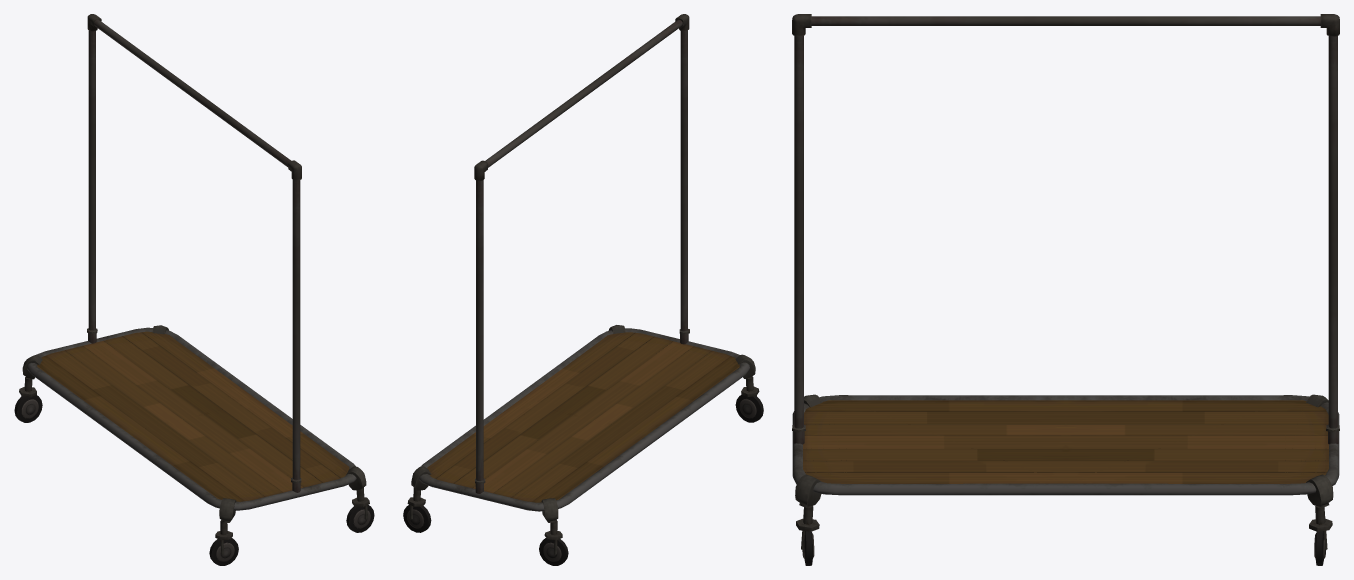
Rendered from ClothesTrolley.fbx.
The picture shows the model from 3 angles, left to right: view 1: azimuth 30°, elevation 25°; view 2: azimuth 150°, elevation 25°; view 3: azimuth 270°, elevation 25°; orthographic projection. The views are drawn at different scales.
Visible parts, largest first — view 1: ClothesTrolley_Base, Pole1, Pole3, Pole2, TrolleyWheel_3, TrolleyWheel_4, TrolleyWheel_1; view 2: ClothesTrolley_Base, Pole1, Pole3, Pole2, TrolleyWheel_4, TrolleyWheel_3, TrolleyWheel_2; view 3: ClothesTrolley_Base, Pole2, Pole1, Pole3.
Boxes of the visible parts, x1,y1,x2,y2 form: ClothesTrolley_Base: [27, 327, 356, 510]; Pole1: [292, 180, 300, 492]; Pole3: [88, 30, 96, 343]; Pole2: [94, 19, 290, 167]; TrolleyWheel_3: [14, 395, 42, 422]; TrolleyWheel_4: [209, 538, 238, 565]; TrolleyWheel_1: [346, 505, 374, 532]; ClothesTrolley_Base: [419, 328, 749, 511]; Pole1: [680, 30, 688, 344]; Pole3: [475, 180, 483, 493]; Pole2: [485, 19, 682, 167]; TrolleyWheel_4: [735, 394, 763, 422]; TrolleyWheel_3: [539, 538, 568, 565]; TrolleyWheel_2: [403, 504, 431, 532]; ClothesTrolley_Base: [792, 395, 1339, 495]; Pole2: [811, 16, 1320, 25]; Pole1: [793, 36, 804, 444]; Pole3: [1328, 36, 1338, 443].
Size of the model in its own units: 76.38 by 173 by 170.
